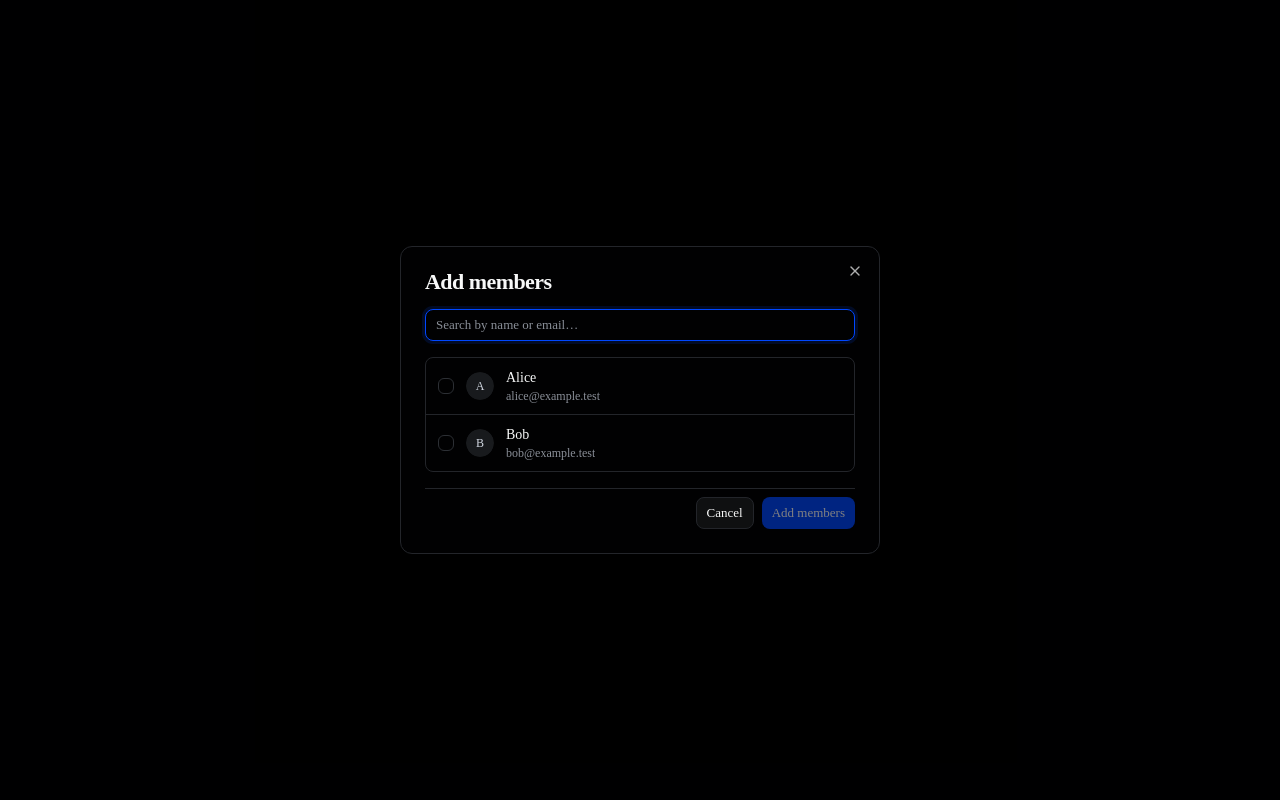
Scenario: AddGroupMembersDialog › selecting a user adds a chip and enables the confirm button
Click the text "Alice". click: (521, 378)
box: [506, 370, 536, 385]
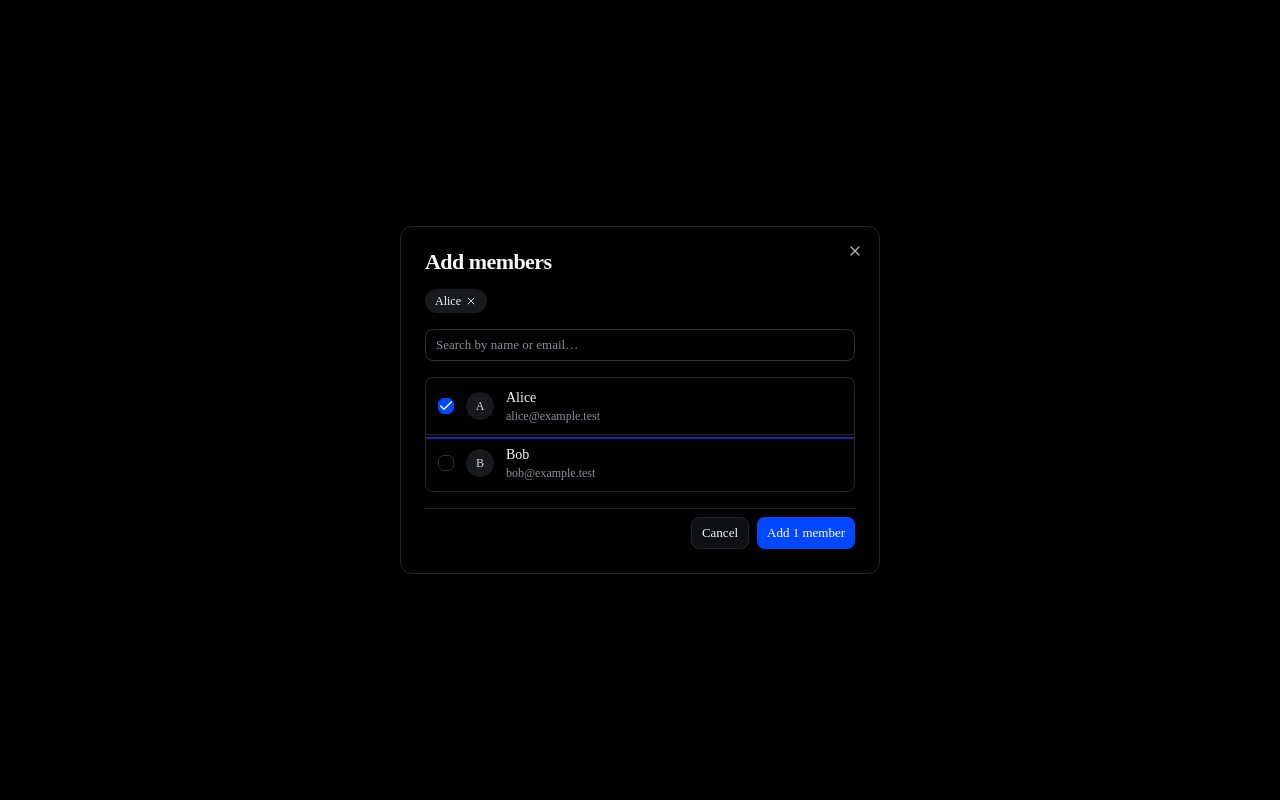
Check: the button "Add 1 member" is enabled, box [757, 517, 855, 549]
Check: the text "Alice" is shown 2 times, box [425, 289, 487, 313]; [506, 390, 536, 405]
